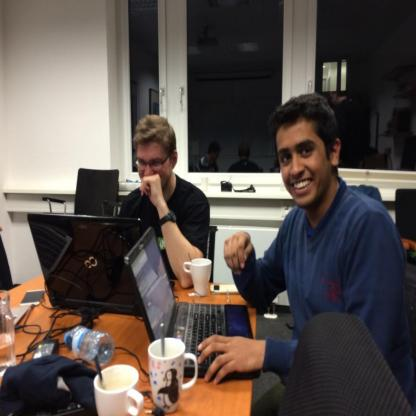board: (126, 229, 262, 385), (29, 214, 174, 316), (63, 327, 115, 369), (0, 289, 16, 375)
